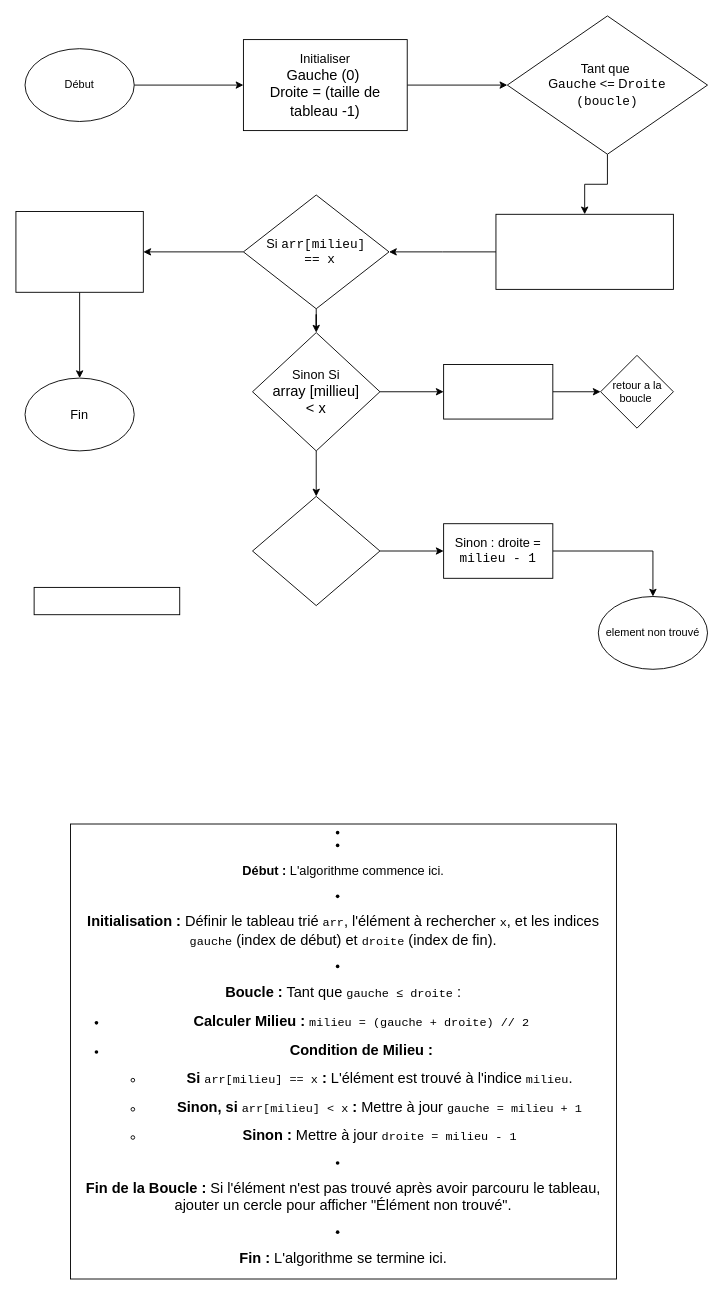
Image size: 723x1295. Some labels were removed from this diagram. The shapes that lost their labels are listed below. From the top down, each one's box as (x1, y1, x2, y2) in pixels, then its label:
(15, 211, 143, 292): Afficher 'Élément trouvé à l'indice milieu
(495, 213, 673, 289): Calculer : Milieu milieu = (gauche + droite) / 2
(443, 364, 553, 419): gauche = milieu + 1
(252, 495, 380, 606): Sinon Si array [millieu] > x
(33, 586, 180, 615): Algo binaire
